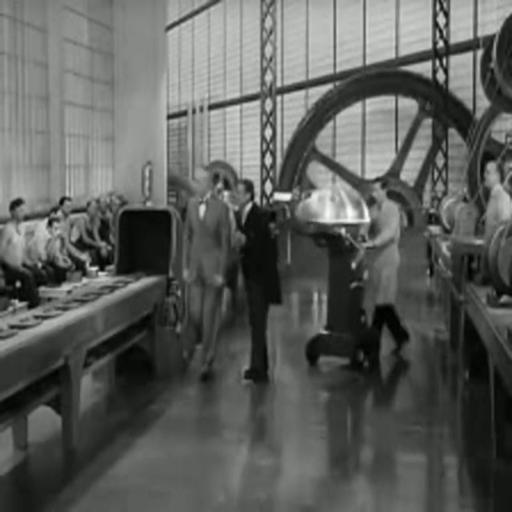nao-violencia: (171, 156, 290, 398)
